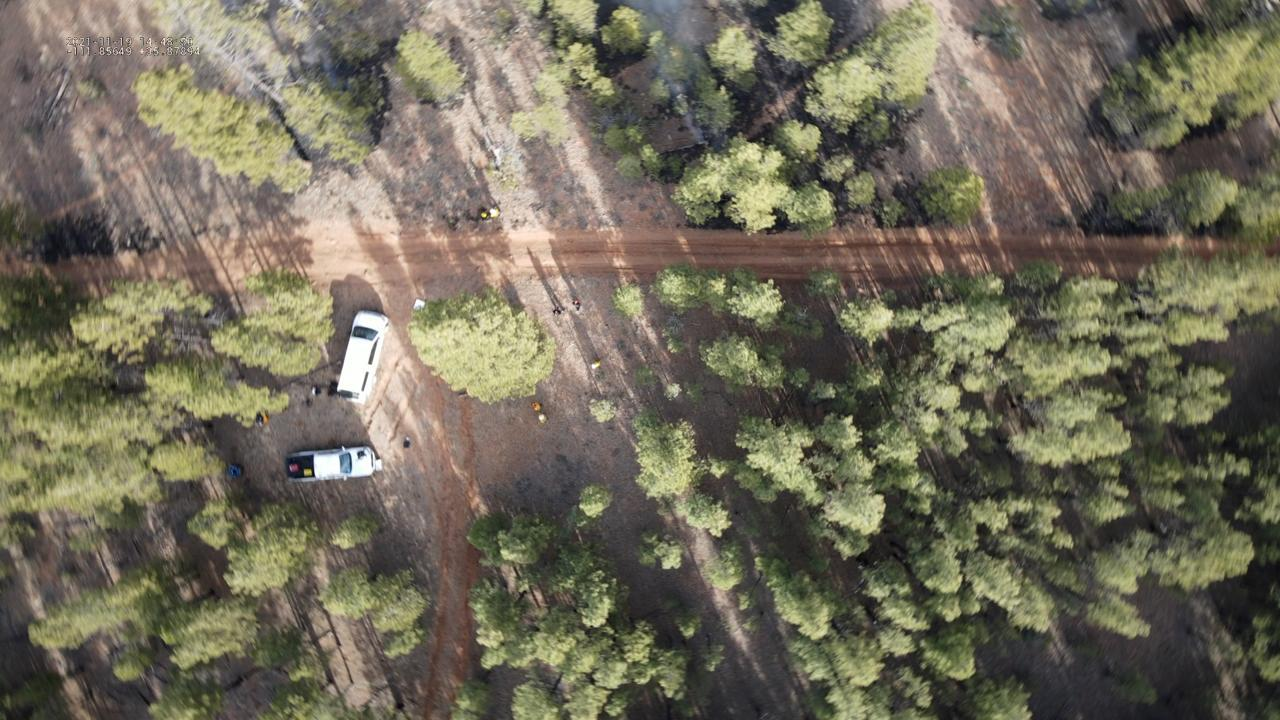smoke: (624, 0, 709, 147)
